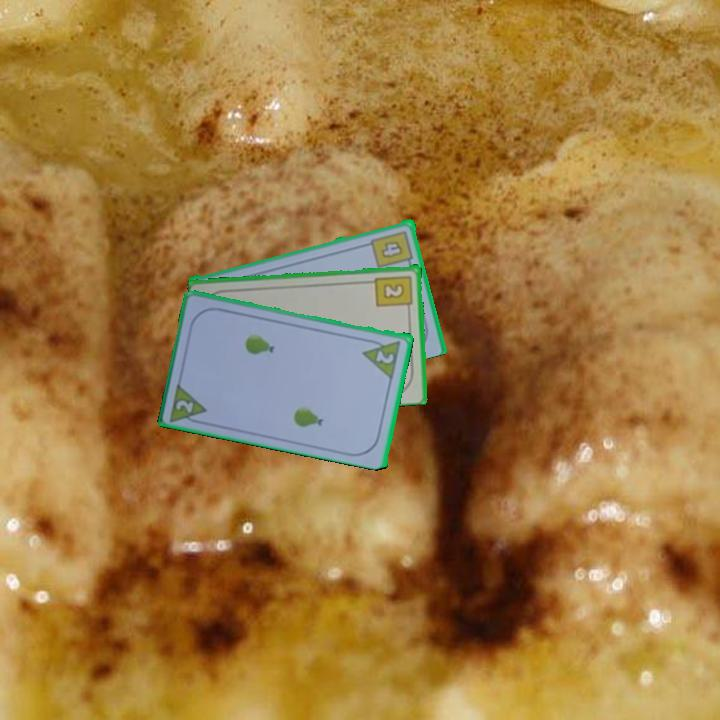2b: (372, 272, 416, 314)
2p: (372, 346, 397, 367), (172, 396, 197, 416)
4b: (368, 227, 416, 271)
